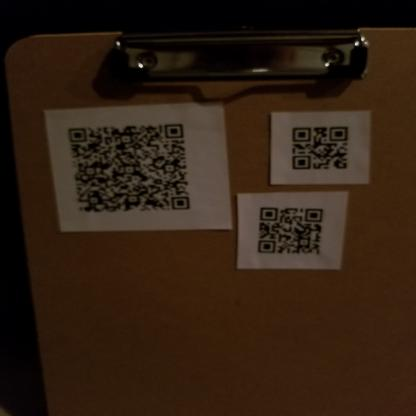qr: (65, 121, 197, 213), (252, 203, 328, 260), (287, 123, 353, 174)
